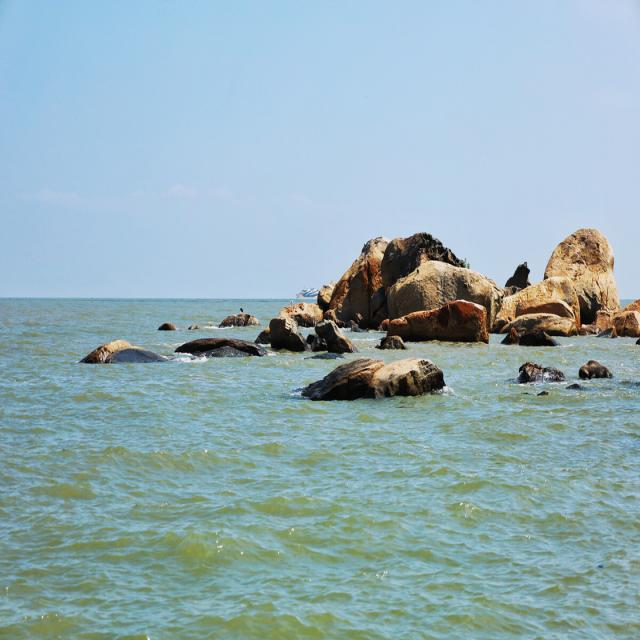reef: (318, 209, 631, 345)
